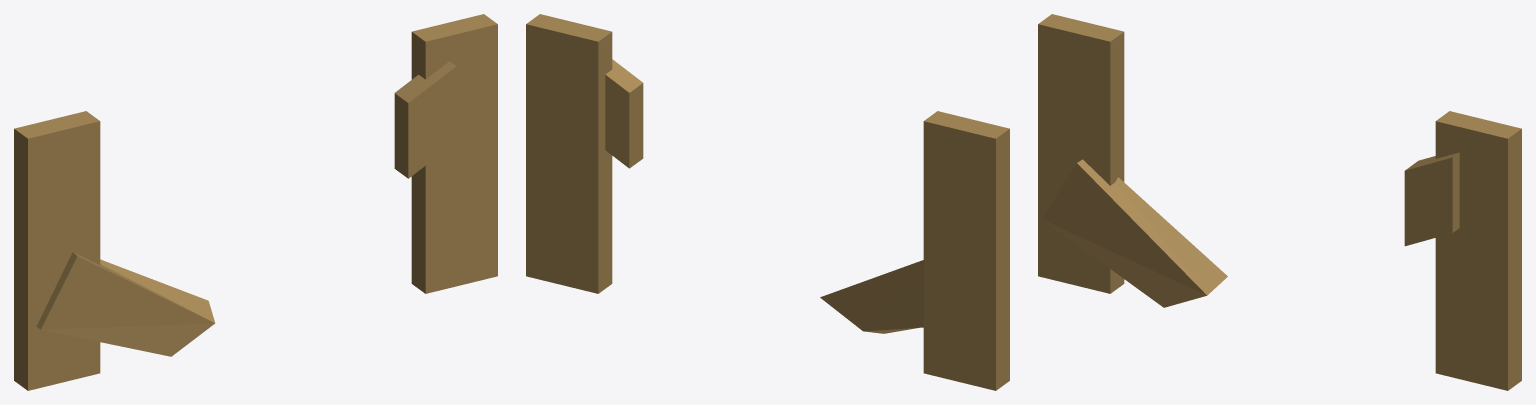
Rendered from fense_broken.gltf.
The picture shows the model from 3 angles, left to right: view 1: azimuth 30°, elevation 25°; view 2: azimuth 150°, elevation 25°; view 3: azimuth 330°, elevation 25°; orthographic projection.
Bounding box in the file's own units: 2.44 × 1.25 × 0.2066.
1 material, 1 textured.
